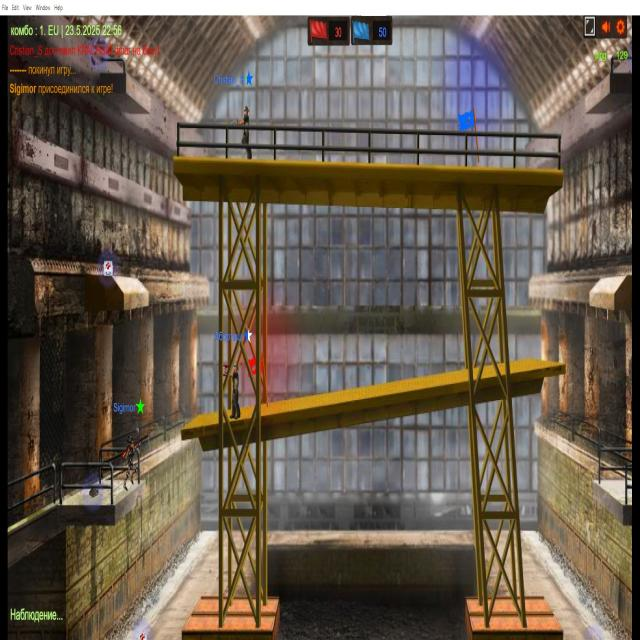enemy: (121, 429, 148, 495), (221, 358, 242, 423), (232, 103, 254, 165)
